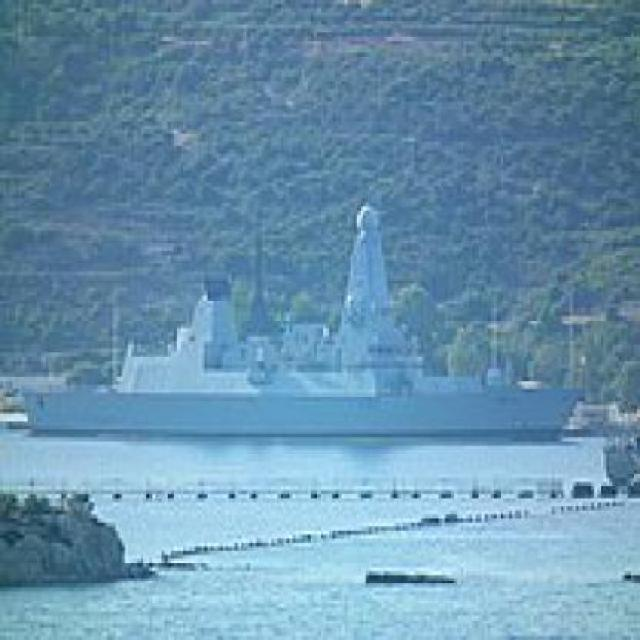warship2: (19, 179, 602, 439)
